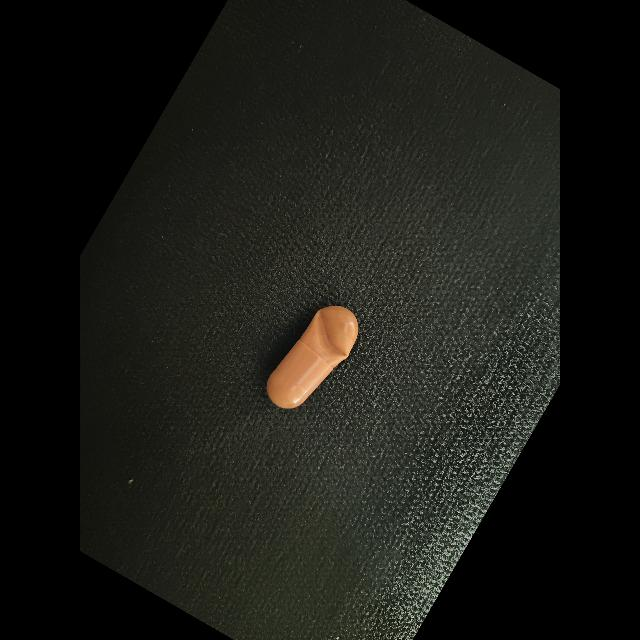Defective Capsule: (316, 309, 348, 359)
